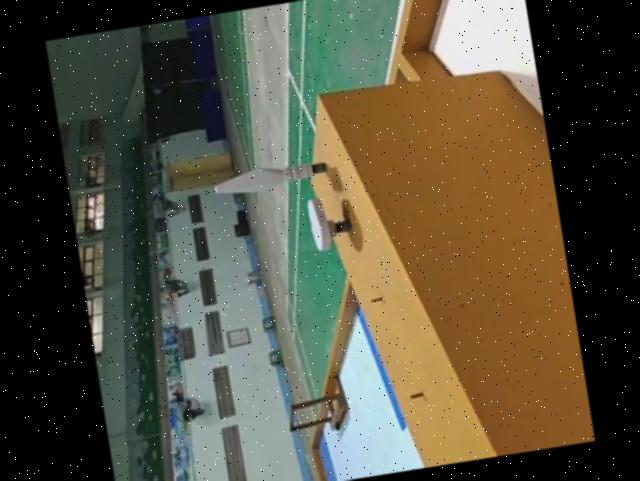Hand: (304, 192, 352, 253)
Sph: (210, 153, 332, 199)
